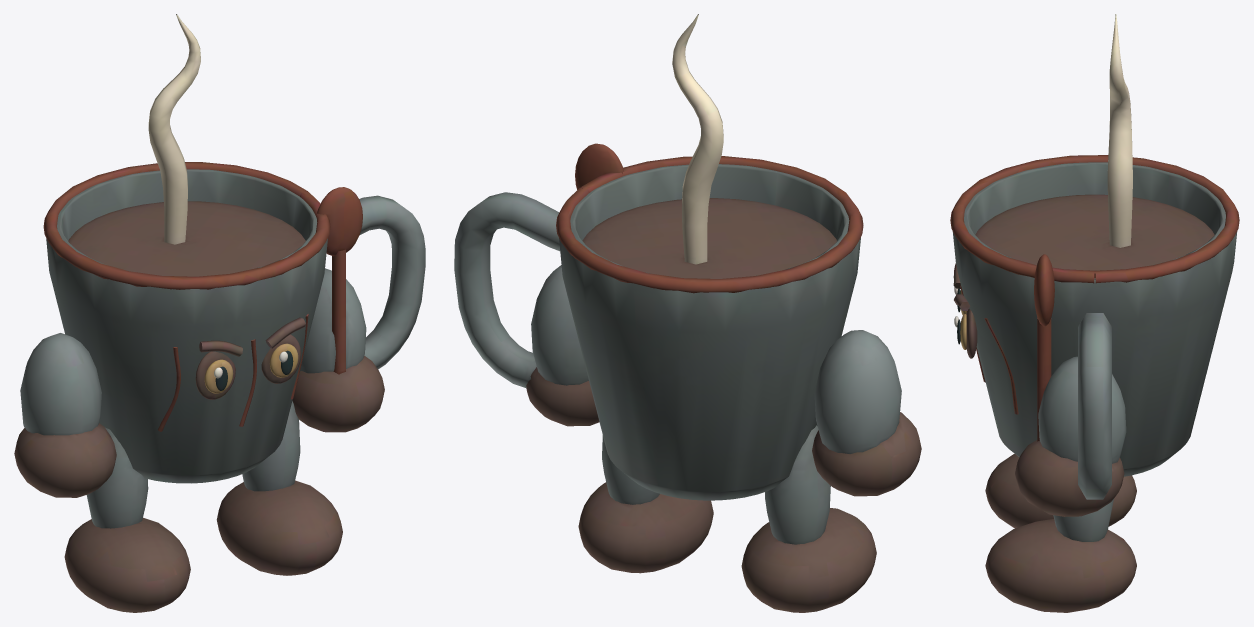
File: teacup-healer.glb
3 views of the same model, side by side, from view 1: azimuth 30°, elevation 25°; view 2: azimuth 150°, elevation 25°; view 3: azimuth 270°, elevation 25° (orthographic). The views are drawn at different scales.
Parts seen in each view (by area): view 1: hollow-glazed-teacup, sewn-arm, weighted-boot, sewn-arm.001, weighted-boot.001, cup-curved-handle, folded-steam-plume, enemy-eye-rim; view 2: hollow-glazed-teacup, weighted-boot, sewn-arm, weighted-boot.001, cup-curved-handle, sewn-arm.001, folded-steam-plume; view 3: hollow-glazed-teacup, weighted-boot.001, sewn-arm.001, cup-curved-handle, folded-steam-plume, weighted-boot, enemy-eye-rim.
Part boxes in pixels (bbox=[...]): hollow-glazed-teacup: bbox=[43, 162, 330, 483]; sewn-arm: bbox=[14, 333, 116, 497]; weighted-boot: bbox=[64, 427, 190, 612]; sewn-arm.001: bbox=[292, 187, 384, 432]; weighted-boot.001: bbox=[216, 401, 342, 575]; cup-curved-handle: bbox=[359, 195, 425, 369]; folded-steam-plume: bbox=[148, 14, 200, 244]; enemy-eye-rim: bbox=[195, 317, 305, 399]; hollow-glazed-teacup: bbox=[556, 156, 863, 500]; weighted-boot: bbox=[741, 425, 876, 612]; sewn-arm: bbox=[812, 330, 921, 496]; weighted-boot.001: bbox=[578, 435, 713, 573]; cup-curved-handle: bbox=[454, 192, 560, 388]; sewn-arm.001: bbox=[526, 143, 623, 426]; folded-steam-plume: bbox=[672, 14, 723, 264]; hollow-glazed-teacup: bbox=[950, 155, 1239, 476]; weighted-boot.001: bbox=[985, 499, 1136, 612]; sewn-arm.001: bbox=[1015, 254, 1126, 516]; cup-curved-handle: bbox=[1078, 313, 1111, 499]; folded-steam-plume: bbox=[1107, 14, 1132, 247]; weighted-boot: bbox=[985, 454, 1136, 528]; enemy-eye-rim: bbox=[953, 263, 977, 358].
Bounding box in the file's own units: 1.22 × 1.57 × 0.7398.
1 material, 1 textured.
